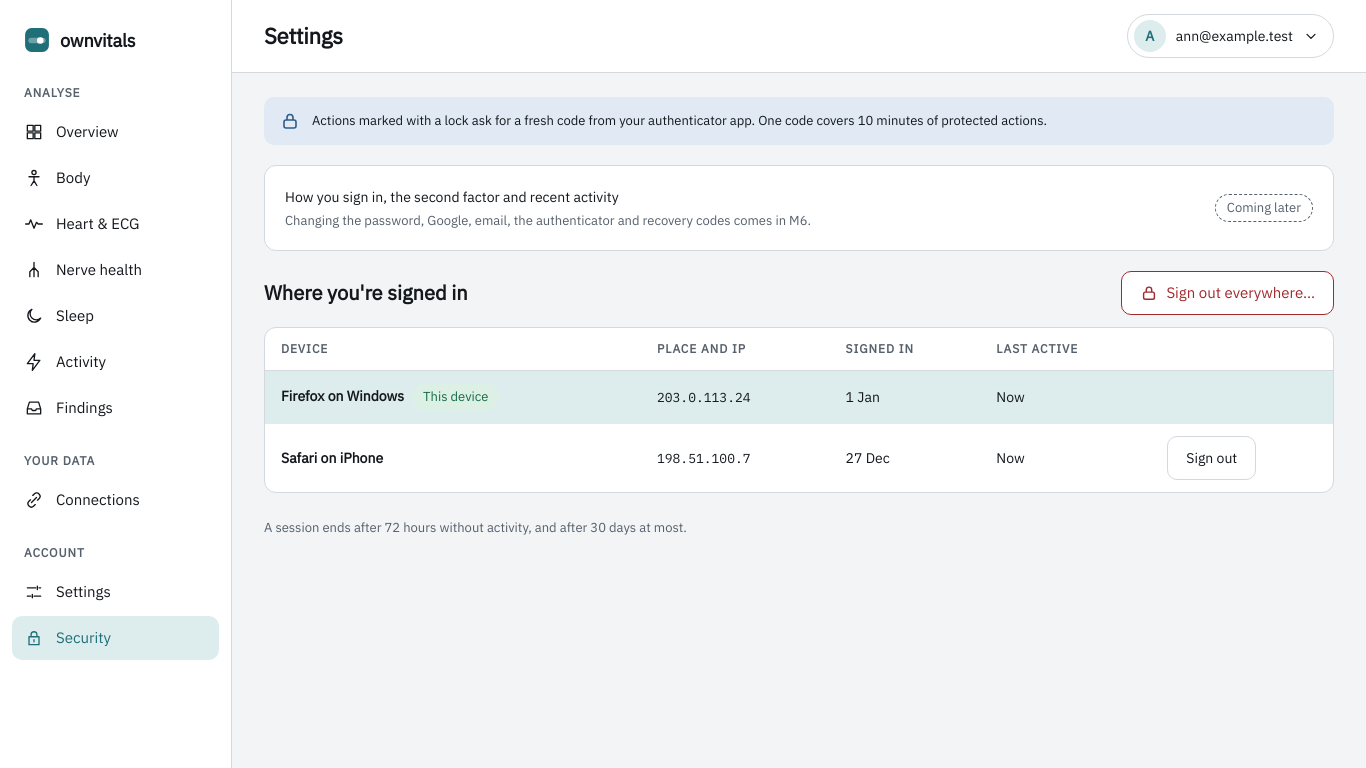
the security tab › signs out another session without asking for a code
Click the button with aria-label "Sign out Safari on iPhone": {"x": 1212, "y": 458} 1167,436 -> 1256,480
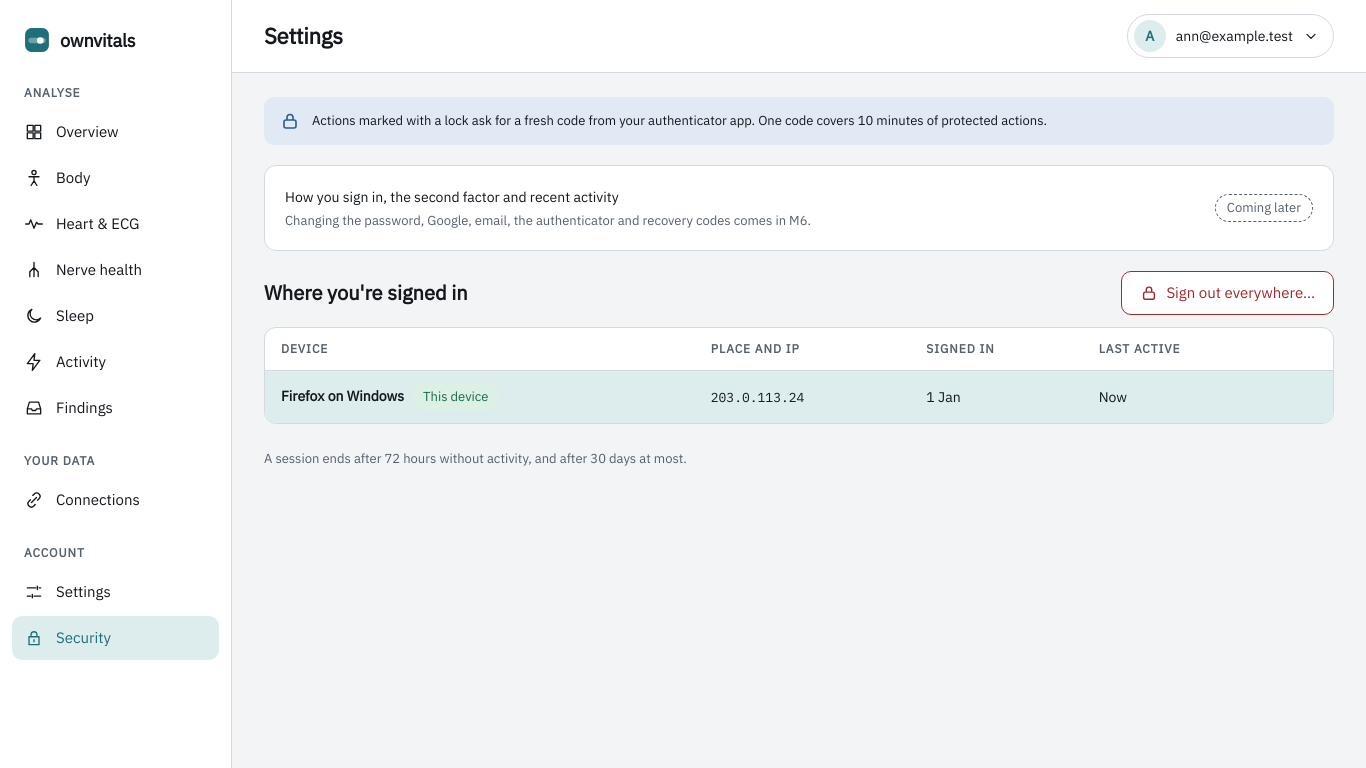
Now the text "Safari on iPhone" is gone
